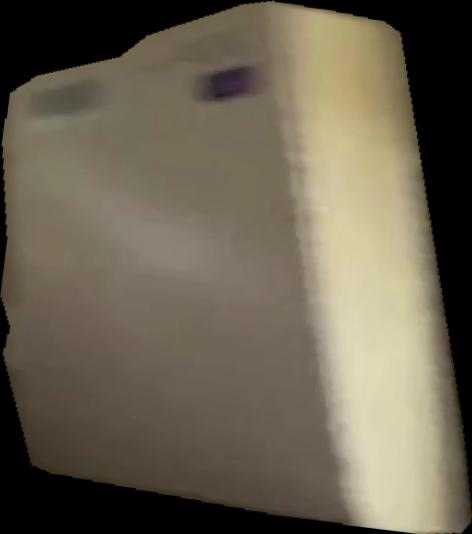backward: (1, 1, 472, 534)
